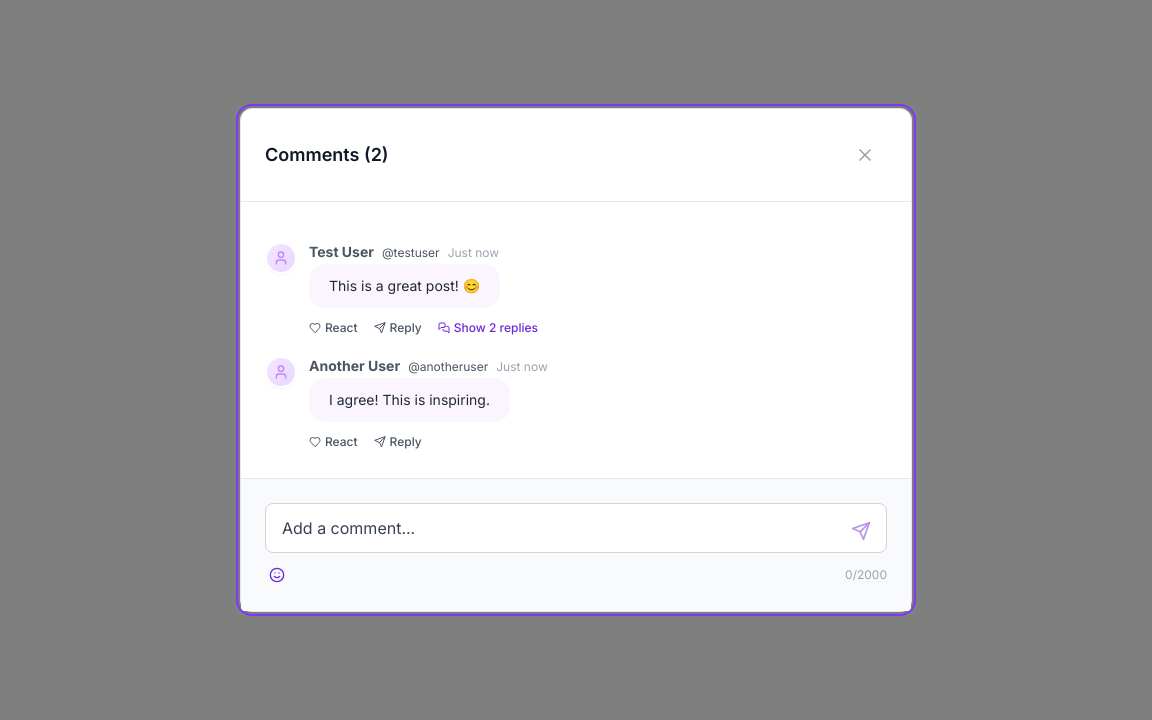
Scenario: CommentsModal › allows user to submit a reply
Note: Click reply button
Click the button with aria-label "Reply to" at (398, 328), box [374,320,422,336]
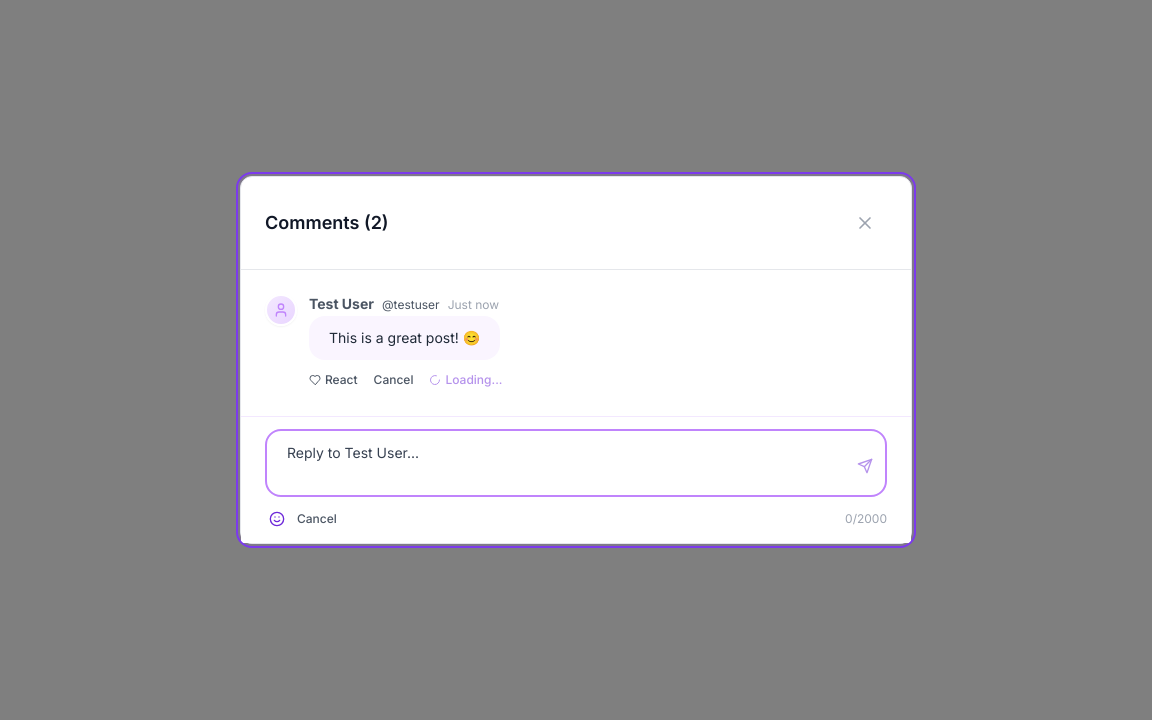
Type "This is a reply" into the text box with placeholder "Reply to Test User..." at (576, 463), box [265,429,887,497]
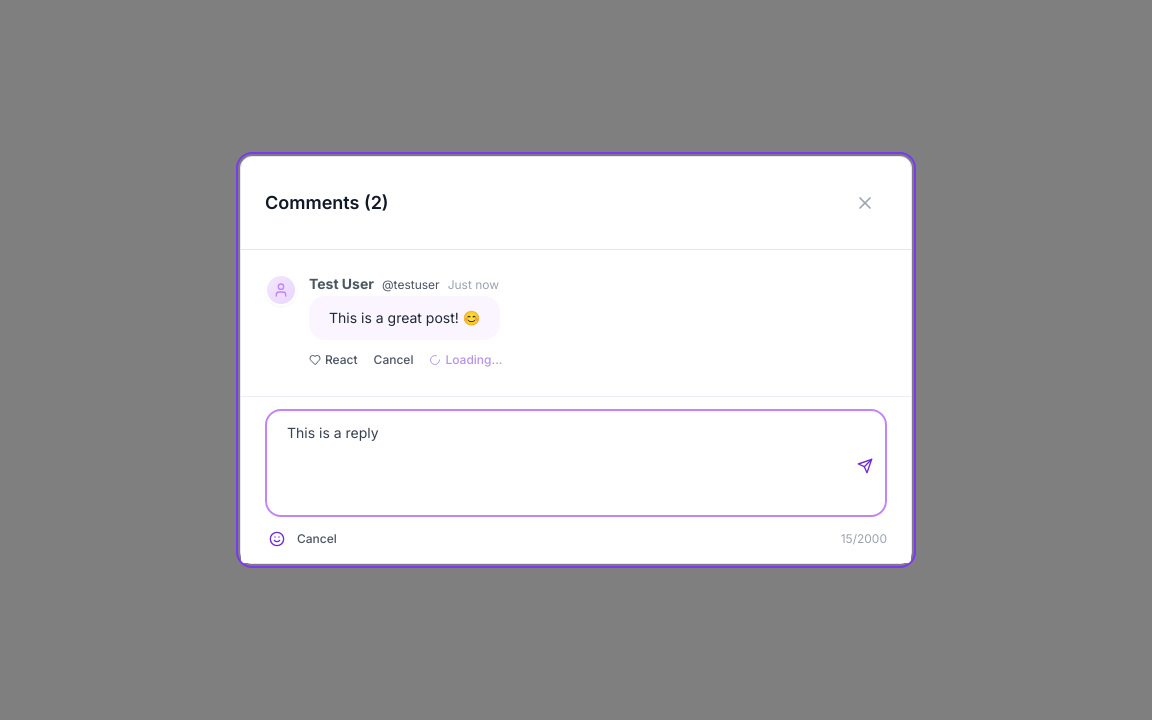
Note: Submit reply from footer send button
Click the button named "Post reply" at (865, 466), box [851,452,879,480]
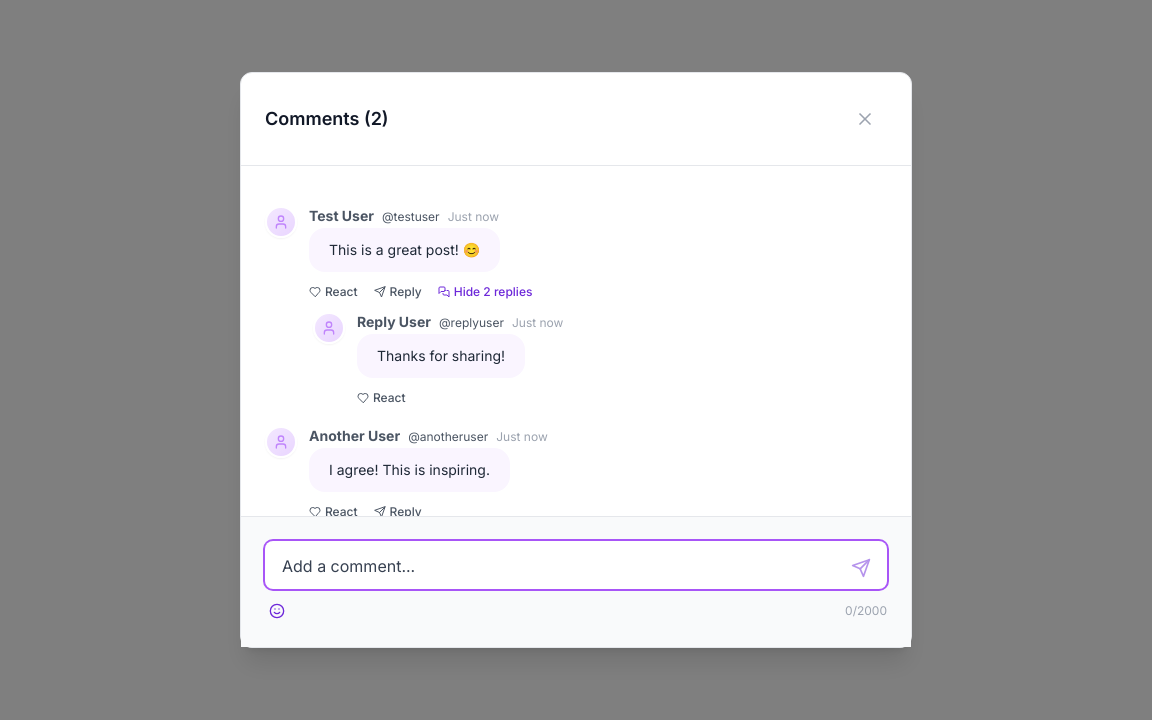
Expected: the text box with placeholder "Add a comment..." is shown, [265,541,887,589]
